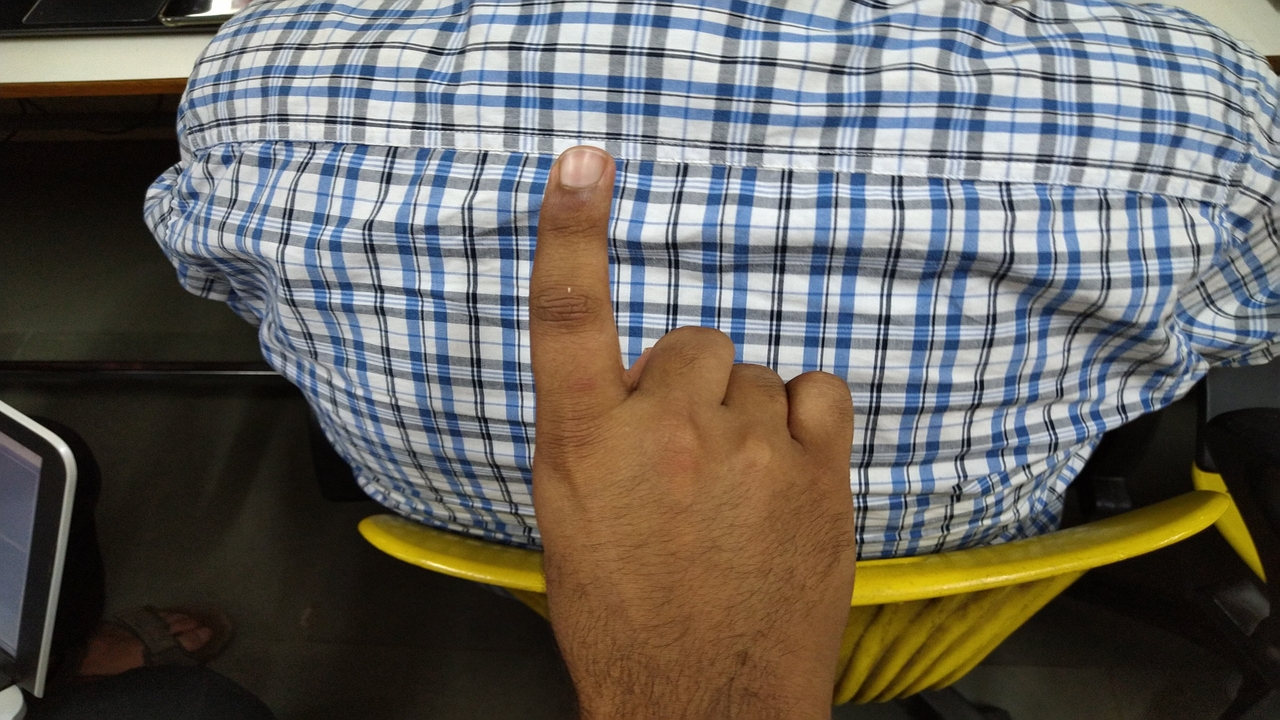fingertip: (538, 142, 618, 214)
